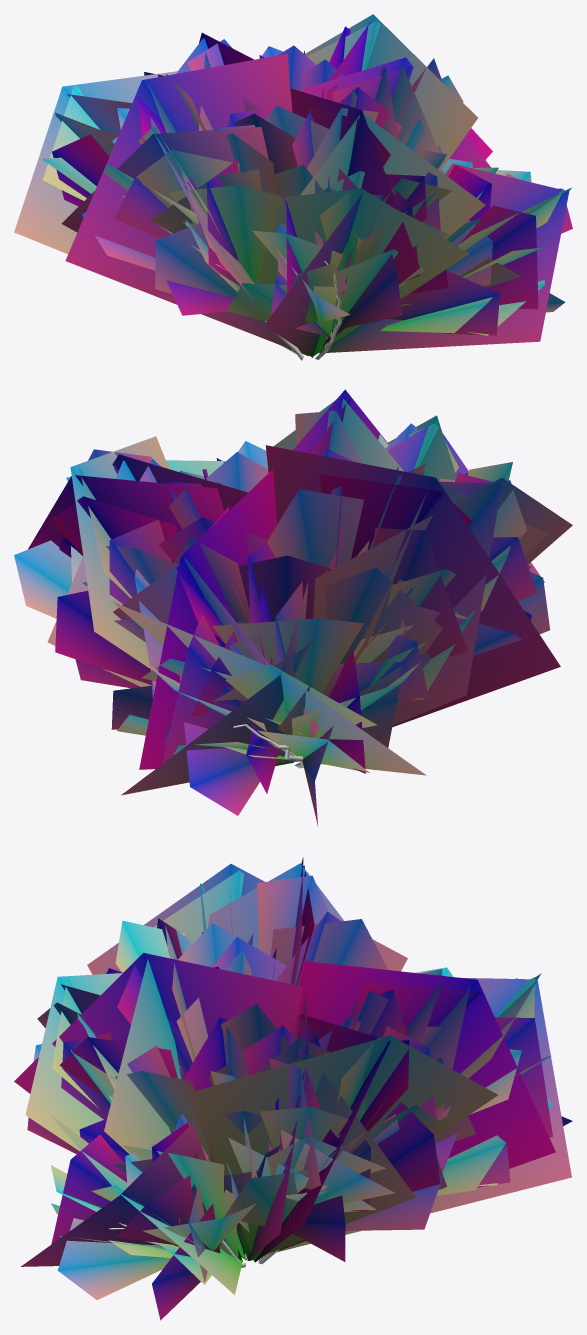
File: buckbrush2.fbx
3 views of the same model, one above another, from view 1: azimuth 30°, elevation 25°; view 2: azimuth 150°, elevation 25°; view 3: azimuth 270°, elevation 25° (orthographic). The views are drawn at different scales.
Parts seen in each view (by area): view 1: bush__leaves_lod0, bush_shadow, bush__trunk_lod0; view 2: bush__leaves_lod0, bush_shadow; view 3: bush__leaves_lod0, bush_shadow.
Part boxes in pixels (box(x1,y1,x2,y2)): bush__leaves_lod0: box(42, 21, 572, 342); bush_shadow: box(14, 14, 571, 357); bush__trunk_lod0: box(263, 260, 342, 360); bush__leaves_lod0: box(14, 397, 550, 825); bush_shadow: box(28, 389, 572, 795); bush__leaves_lod0: box(27, 865, 572, 1320); bush_shadow: box(14, 857, 571, 1294).
Size of what is drawn, in the model's own units: 5.1 by 3.11 by 4.8.
